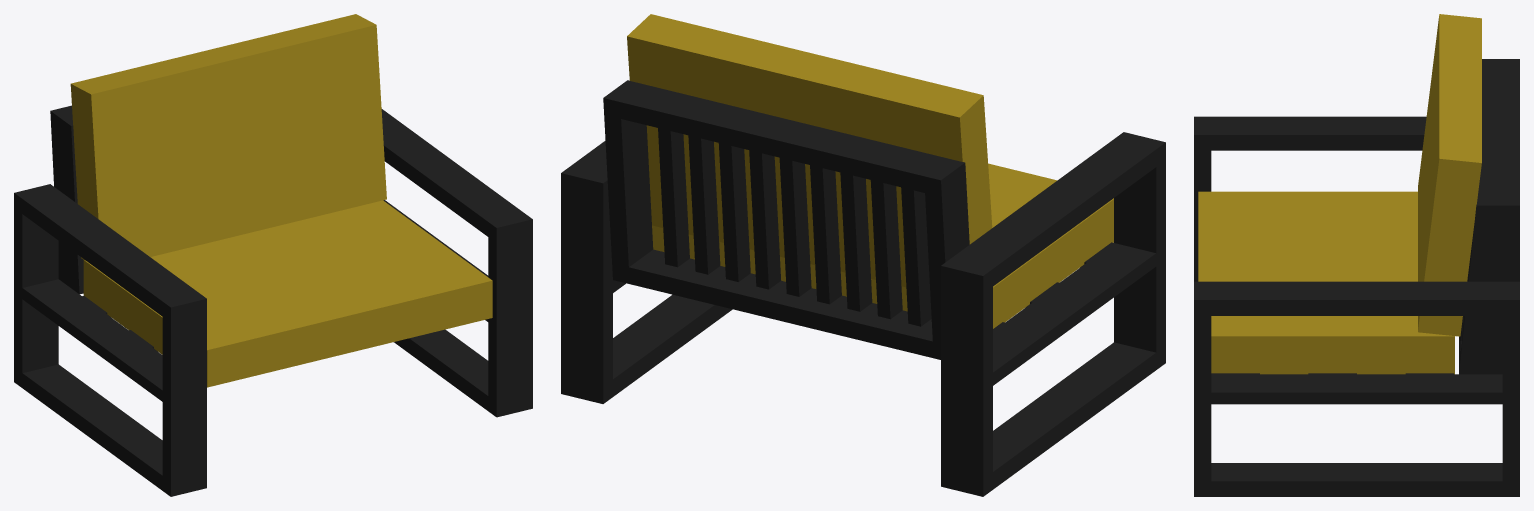
Rendered from PatioChair002_M_v1_Carrie.FBX.
The picture shows the model from 3 angles, left to right: view 1: azimuth 30°, elevation 25°; view 2: azimuth 150°, elevation 25°; view 3: azimuth 270°, elevation 25°; orthographic projection. The views are drawn at different scales.
Parts seen in each view (by area): view 1: PatioChair002; view 2: PatioChair002; view 3: PatioChair002.
Part boxes in pixels (box(x1,y1,x2,y2)): PatioChair002: box(14, 14, 532, 496); PatioChair002: box(561, 14, 1165, 496); PatioChair002: box(1194, 14, 1519, 496).
Size of the model in its own units: 365 by 296 by 274.
